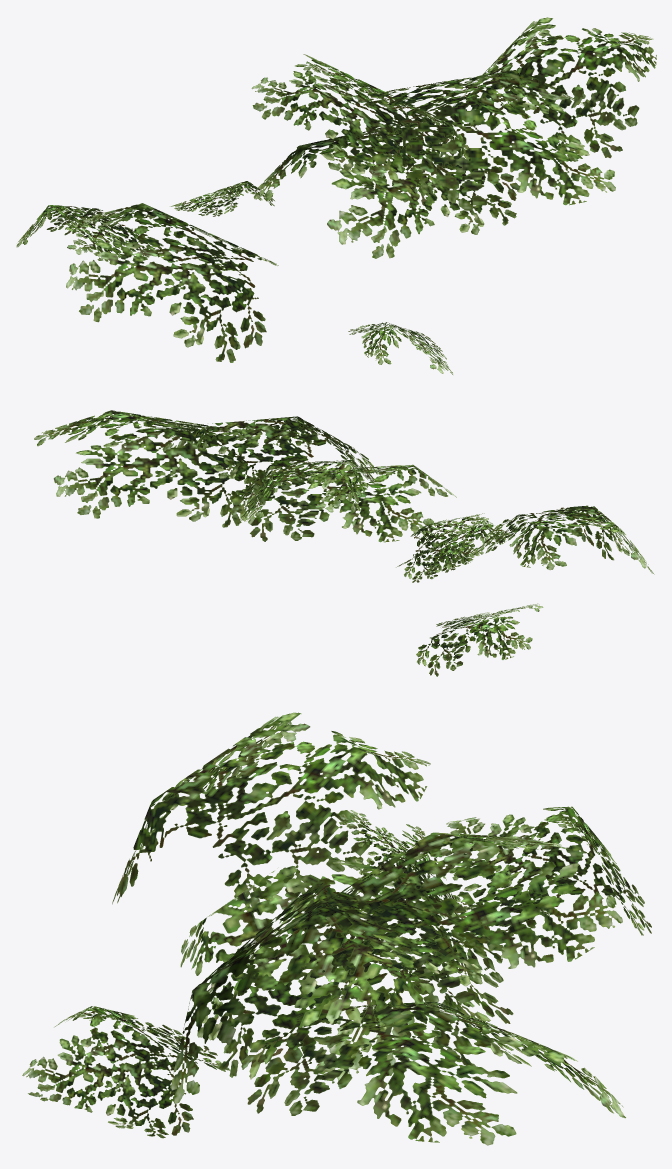
Rendered from tree_acacia_top_c.glb.
3 renders of one model, top to bottom at view 1: azimuth 30°, elevation 25°; view 2: azimuth 150°, elevation 25°; view 3: azimuth 270°, elevation 25°, orthographic. The views are drawn at different scales.
Visible parts, largest first — view 1: tree_acacia_top_c; view 2: tree_acacia_top_c; view 3: tree_acacia_top_c.
Part boxes in pixels (box(x1,y1,x2,y2)): tree_acacia_top_c: box(16, 17, 656, 374); tree_acacia_top_c: box(34, 410, 654, 676); tree_acacia_top_c: box(22, 712, 651, 1145).
Bounding box in the file's own units: 15.14 × 4.27 × 8.68.
1 material, 1 textured.
